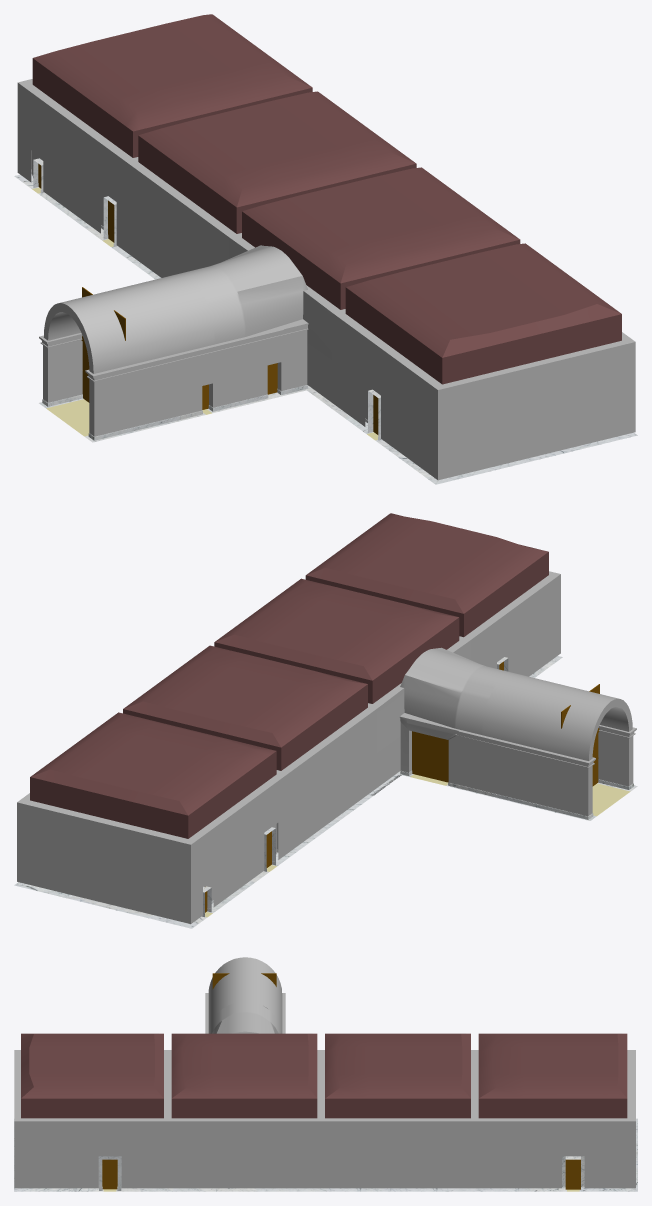
Rendered from 3dm_Blockout_2a.fbx.
3 renders of one model, top to bottom at view 1: azimuth 30°, elevation 25°; view 2: azimuth 150°, elevation 25°; view 3: azimuth 270°, elevation 25°, orthographic. The views are drawn at different scales.
Visible parts, largest first — view 1: polySurface22, polySurface43, polySurface34, polySurface37, polySurface40, polySurface7, polySurface3, polySurface16, polySurface13, polySurface24, polySurface23, polySurface21 (+1 smaller); view 2: polySurface22, polySurface34, polySurface37, polySurface43, polySurface40, polySurface13, polySurface3, polySurface16, polySurface7, pCube28, polySurface31, polySurface23 (+3 smaller); view 3: polySurface22, polySurface34, polySurface40, polySurface37, polySurface43, polySurface3, polySurface16, polySurface28, polySurface21, pCube57, pCube52, polySurface24 (+1 smaller).
Part boxes in pixels (<box>): polySurface22: <box>17,79,635,480</box>; polySurface43: <box>345,243,621,384</box>; polySurface34: <box>32,14,312,157</box>; polySurface37: <box>138,91,416,233</box>; polySurface40: <box>242,167,520,309</box>; polySurface7: <box>85,319,308,436</box>; polySurface3: <box>43,273,214,373</box>; polySurface16: <box>180,245,307,344</box>; polySurface13: <box>39,333,82,402</box>; polySurface24: <box>375,432,637,484</box>; polySurface23: <box>32,187,378,440</box>; polySurface21: <box>32,158,381,440</box>; polySurface22: <box>17,571,560,923</box>; polySurface34: <box>30,712,276,838</box>; polySurface37: <box>123,645,367,770</box>; polySurface43: <box>305,513,548,637</box>; polySurface40: <box>214,578,459,703</box>; polySurface13: <box>399,713,595,816</box>; polySurface3: <box>482,672,632,760</box>; polySurface16: <box>400,647,511,734</box>; polySurface7: <box>598,725,636,786</box>; pCube28: <box>412,731,448,782</box>; polySurface31: <box>14,882,207,928</box>; polySurface23: <box>205,774,630,917</box>; polySurface22: <box>14,1050,635,1188</box>; polySurface34: <box>478,1033,627,1118</box>; polySurface40: <box>171,1033,317,1118</box>; polySurface37: <box>325,1033,470,1118</box>; polySurface43: <box>21,1033,163,1118</box>; polySurface3: <box>208,957,282,1033</box>; polySurface16: <box>208,1001,281,1033</box>; polySurface28: <box>116,1187,566,1191</box>; polySurface21: <box>98,1156,584,1190</box>; pCube57: <box>565,1159,580,1189</box>; pCube52: <box>102,1159,117,1189</box>; polySurface24: <box>14,1119,103,1191</box>.
Bounding box in the file's own units: 46.32 × 13.65 × 81.27.
Materials: 8 (2 with a texture image).
